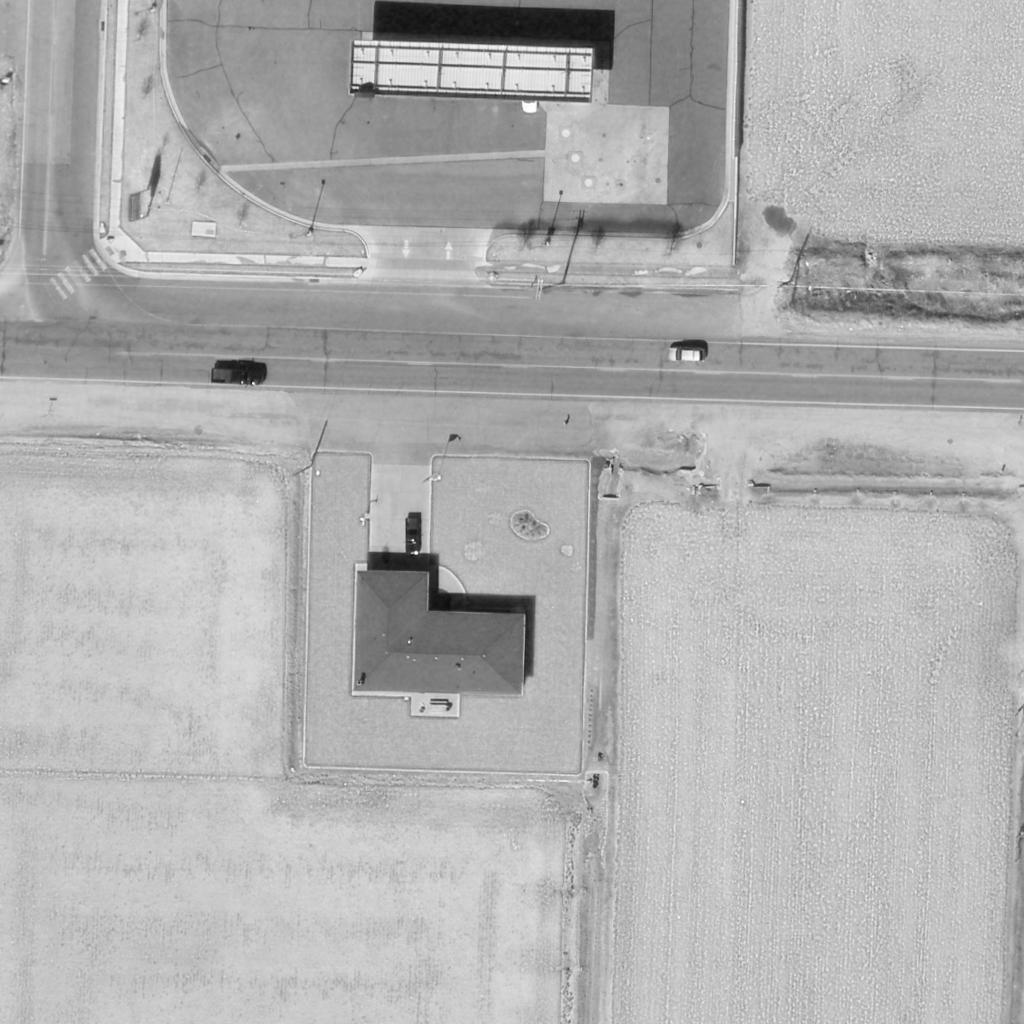vehicle: (208, 365, 270, 385), (406, 517, 426, 559), (667, 346, 705, 366)
